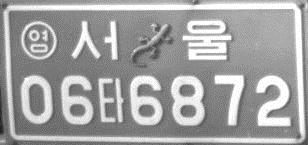0: (19, 74, 54, 125)
2: (255, 74, 291, 127)
6: (59, 73, 95, 125), (129, 74, 163, 125)
7: (213, 73, 245, 127)
8: (170, 74, 205, 128)
서울_D: (70, 17, 232, 61)
영: (19, 21, 58, 61)
타: (97, 76, 125, 123)
